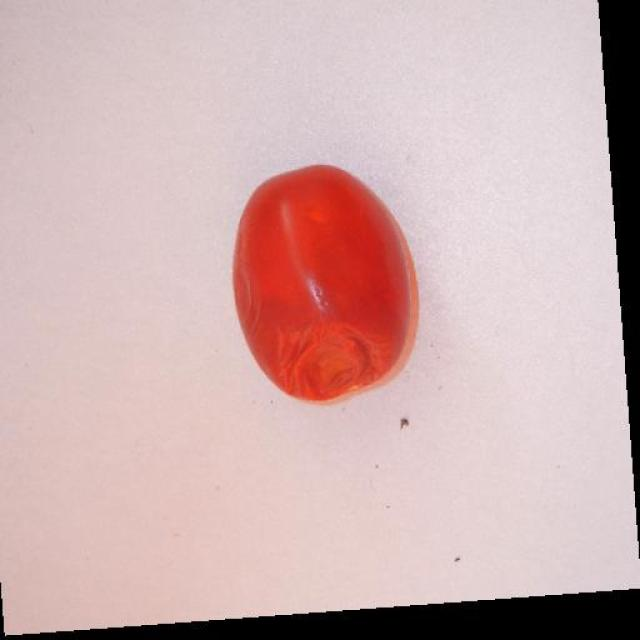Stale_tomato: (234, 220, 406, 426)
